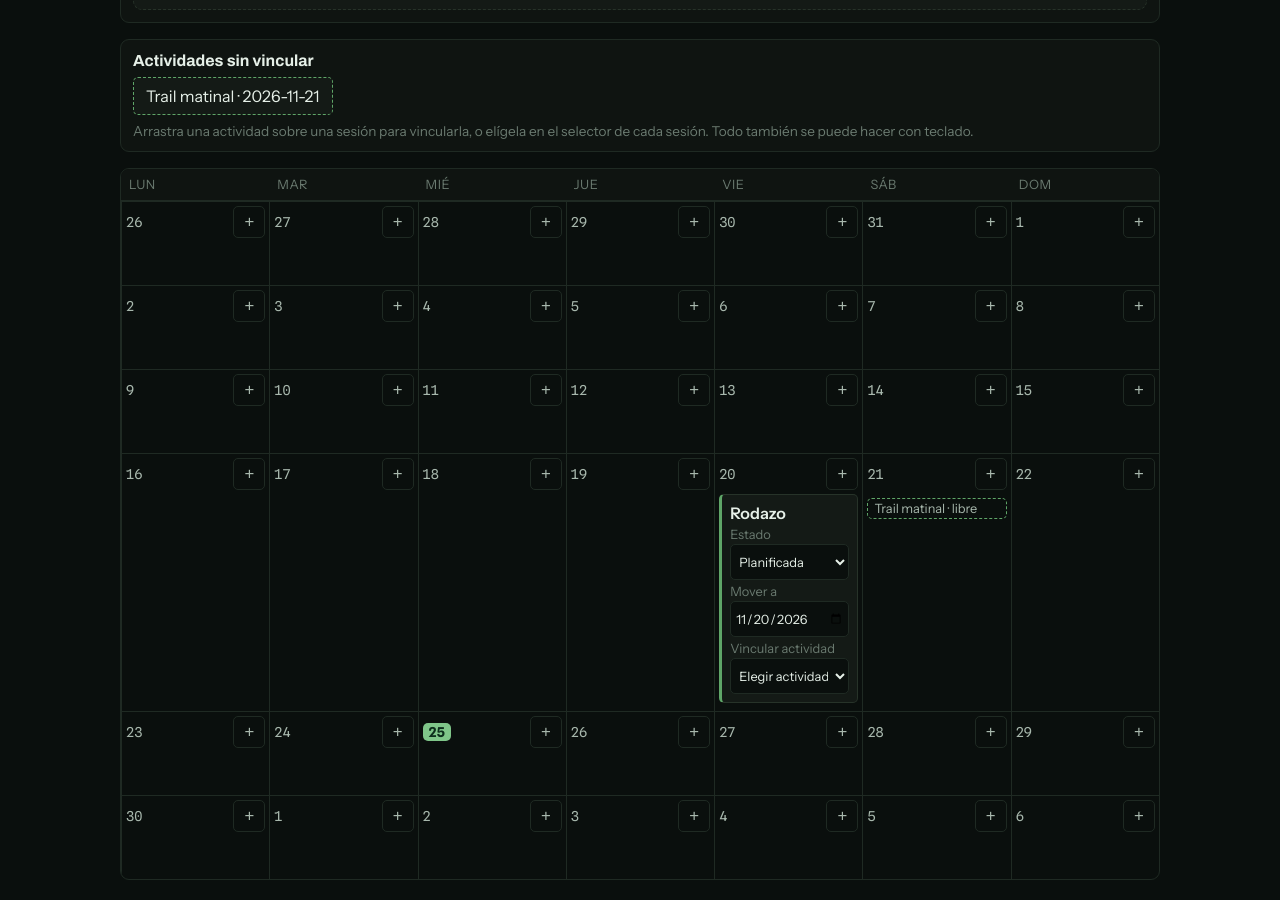
Test: CalendarContainer › shows the server status after linking and reloading
(page scrolled)
Expected: the text "Rodazo" is shown, [730,503,786,523]
Select "Trail matinal (2026-11-21)" in the dropdown named "Vincular actividad a Rodazo": [790, 676] box [730,658,849,694]
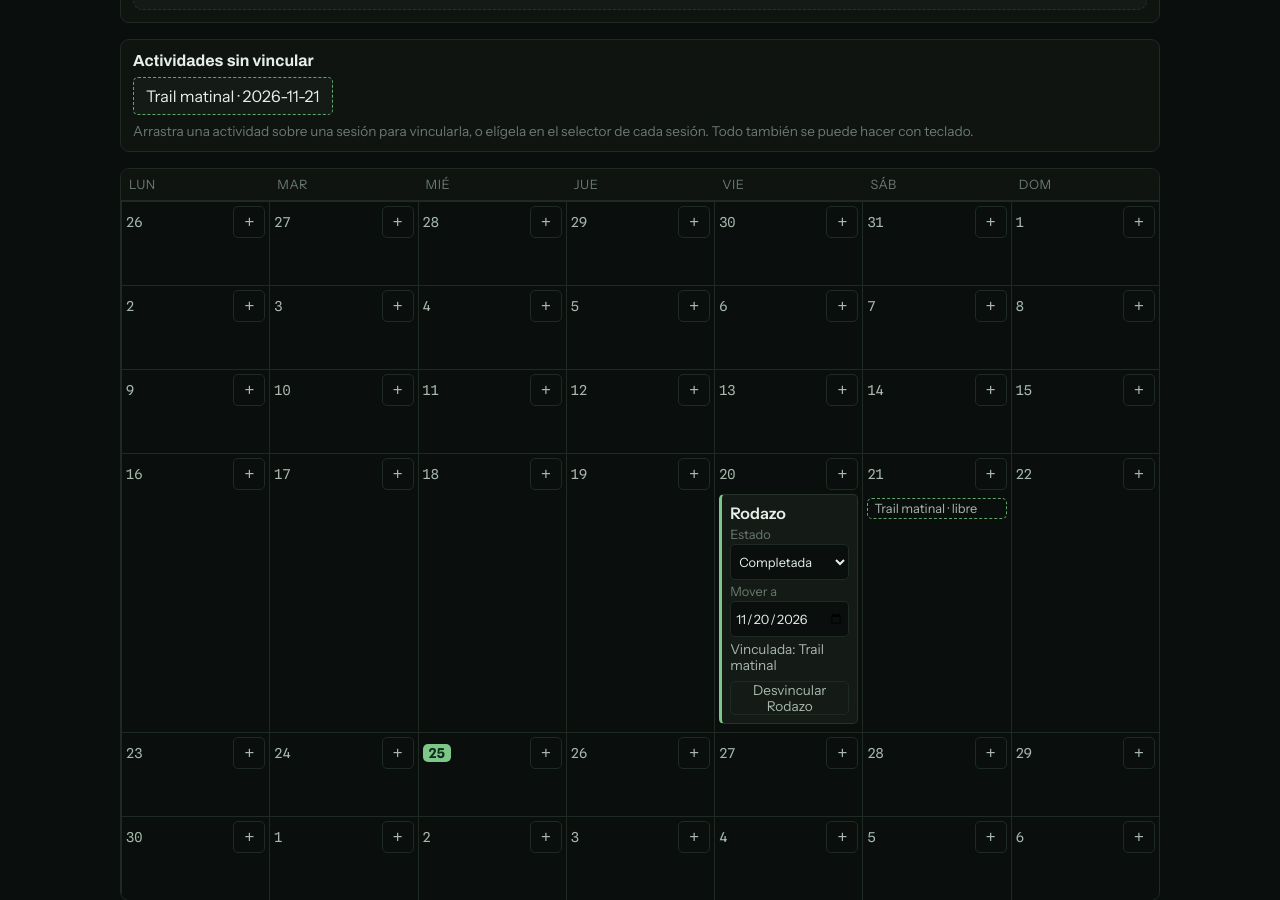
Expected: the button "Desvincular Rodazo" is shown, [730,681,849,715]
Expected: the dropdown named "Estado de Rodazo" shows "Completada", [730,544,849,580]
